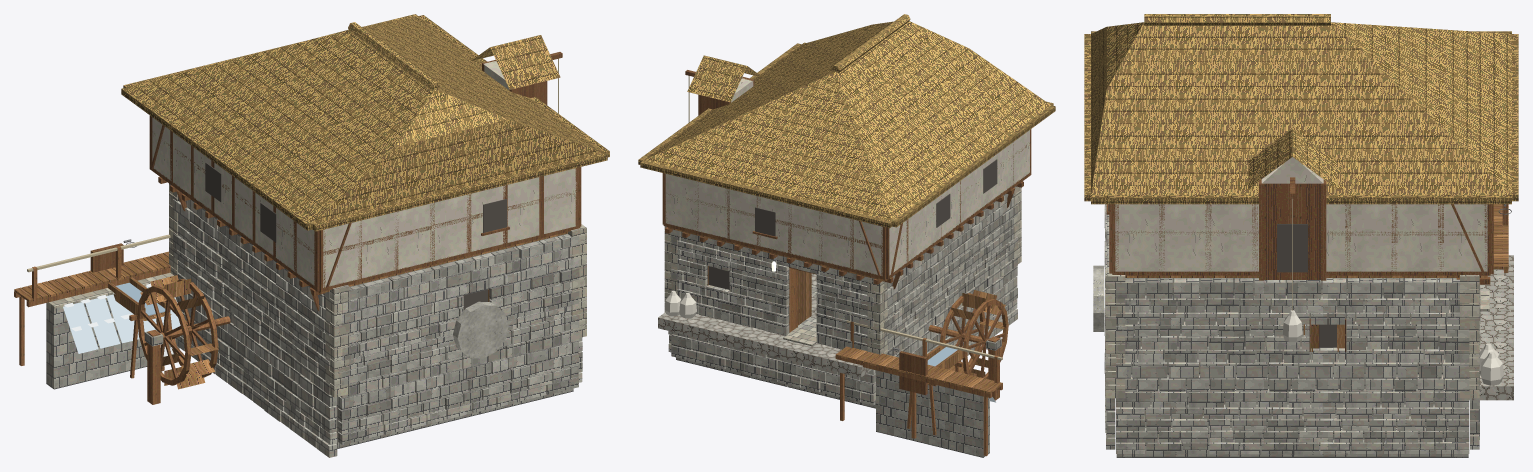
Rendered from mill.glb.
The picture shows the model from 3 angles, left to right: view 1: azimuth 30°, elevation 25°; view 2: azimuth 150°, elevation 25°; view 3: azimuth 270°, elevation 25°; orthographic projection. The views are drawn at different scales.
Visible parts, largest first — view 1: Mill_Shell, Mill_Roof, Mill_UpperShell, Mill_Weir, Mill_WheelParts, Mill_WeirWalk, Mill_RoofLucam, Mill_Dressing, Mill_Leat, Mill_WheelBearing, Mill_UpperJoists; view 2: Mill_Roof, Mill_Shell, Mill_UpperShell, Mill_Weir, Mill_FloorFlags, Mill_WeirWalk, Mill_WheelParts, Mill_RoofLucam, Mill_Leat, Mill_FrameGround, Mill_UpperJoists, Mill_Dressing (+2 smaller); view 3: Mill_Roof, Mill_Shell, Mill_UpperShell, Mill_RoofLucam, Mill_FloorFlags, Mill_Dressing, Mill_FrameGround, Mill_WeirWalk, Mill_UpperFloorBoards.
Part boxes in pixels (x1,y1,x2,y2): Mill_Shell: [169, 183, 586, 457]; Mill_Roof: [121, 14, 609, 231]; Mill_UpperShell: [149, 115, 581, 291]; Mill_Weir: [46, 273, 180, 389]; Mill_WheelParts: [136, 275, 230, 389]; Mill_WeirWalk: [14, 234, 170, 365]; Mill_RoofLucam: [471, 35, 562, 113]; Mill_Dressing: [453, 301, 508, 358]; Mill_Leat: [90, 239, 166, 378]; Mill_WheelBearing: [144, 329, 163, 404]; Mill_UpperJoists: [158, 176, 324, 310]; Mill_Roof: [638, 14, 1055, 228]; Mill_Shell: [664, 186, 1021, 408]; Mill_UpperShell: [662, 129, 1031, 279]; Mill_Weir: [876, 370, 995, 457]; Mill_FloorFlags: [658, 273, 871, 377]; Mill_WeirWalk: [835, 320, 1002, 456]; Mill_WheelParts: [928, 290, 1008, 379]; Mill_RoofLucam: [685, 55, 763, 122]; Mill_Leat: [888, 342, 963, 435]; Mill_FrameGround: [707, 258, 816, 332]; Mill_UpperJoists: [665, 181, 1023, 289]; Mill_Dressing: [664, 290, 696, 318]; Mill_Roof: [1084, 14, 1518, 204]; Mill_Shell: [1104, 204, 1480, 457]; Mill_UpperShell: [1106, 204, 1493, 275]; Mill_RoofLucam: [1248, 129, 1336, 342]; Mill_FloorFlags: [1469, 255, 1513, 400]; Mill_Dressing: [1093, 265, 1503, 385]; Mill_FrameGround: [1303, 317, 1346, 351]; Mill_WeirWalk: [1493, 204, 1508, 272]; Mill_UpperFloorBoards: [1125, 275, 1487, 277].
Bounding box in the file's own units: 13.42 × 9.89 × 9.8.
23 materials, 13 textured.
